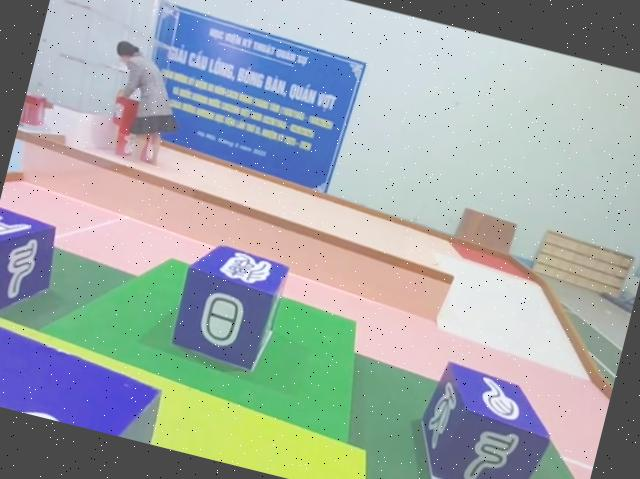R2 Fake Blue: (408, 360, 564, 479), (169, 238, 296, 378), (0, 206, 63, 327)
